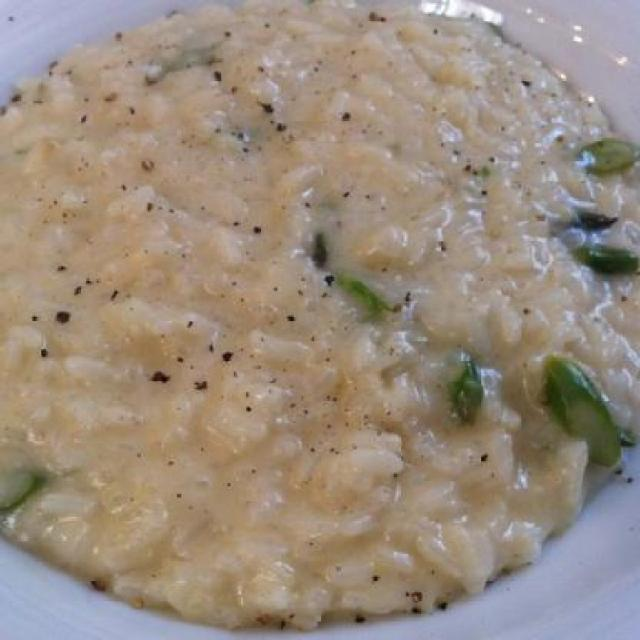Risotto: (7, 8, 620, 610)
